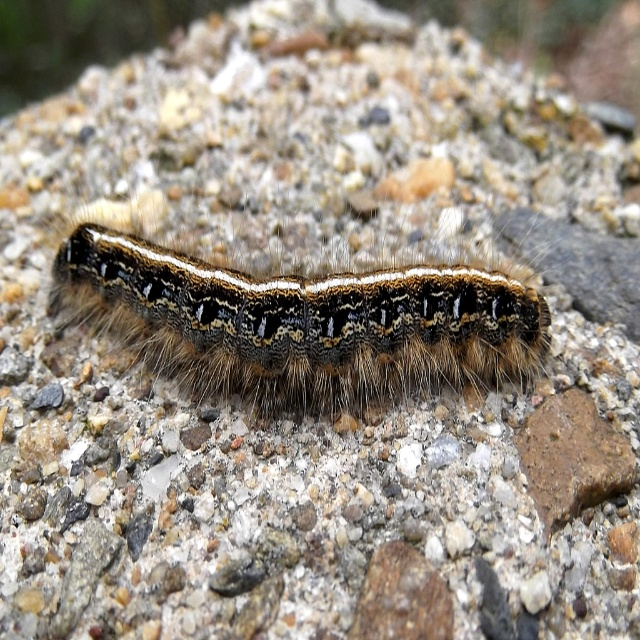Caterpillar: (46, 179, 571, 448)
